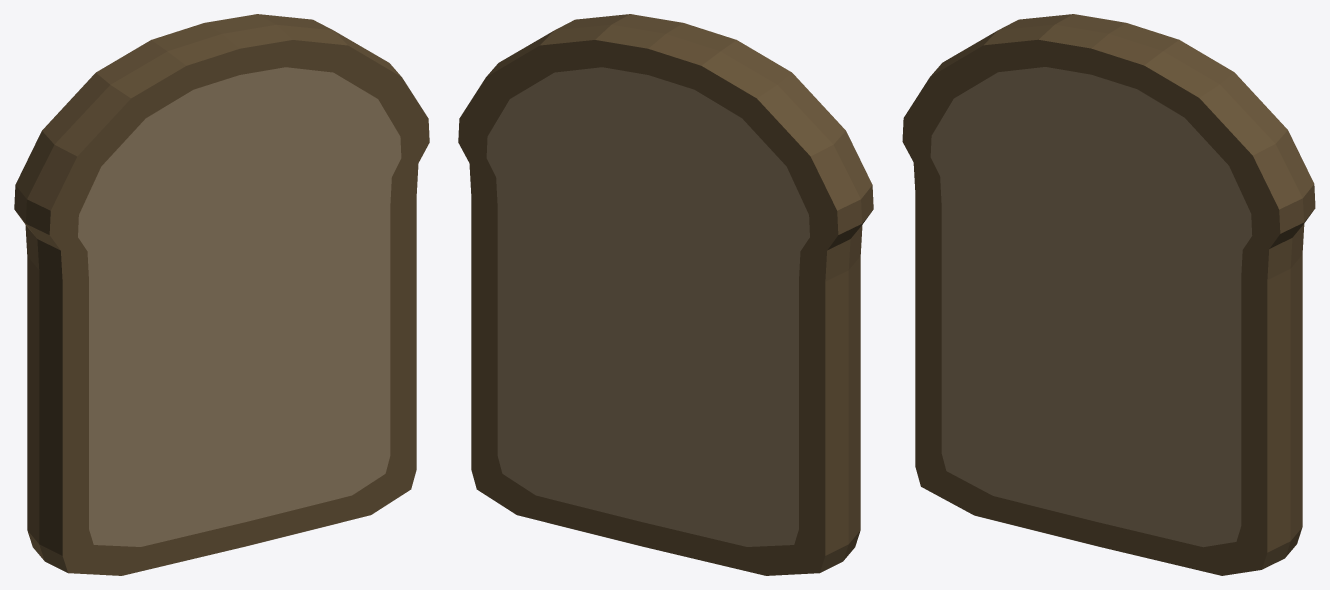
The picture shows the model from 3 angles, left to right: view 1: azimuth 30°, elevation 25°; view 2: azimuth 150°, elevation 25°; view 3: azimuth 330°, elevation 25°; orthographic projection.
Parts seen in each view (by area): view 1: mesh_0, mesh_1; view 2: mesh_0, mesh_1; view 3: mesh_0, mesh_1.
Boxes of the visible parts, x1=… form: mesh_0: x1=78, y1=67, x2=401, y2=546; mesh_1: x1=14, y1=14, x2=429, y2=575; mesh_0: x1=486, y1=67, x2=809, y2=546; mesh_1: x1=458, y1=14, x2=873, y2=575; mesh_0: x1=930, y1=67, x2=1252, y2=547; mesh_1: x1=902, y1=14, x2=1315, y2=575.
Size of the model in its own units: 0.6933 by 0.847 by 0.1083.
